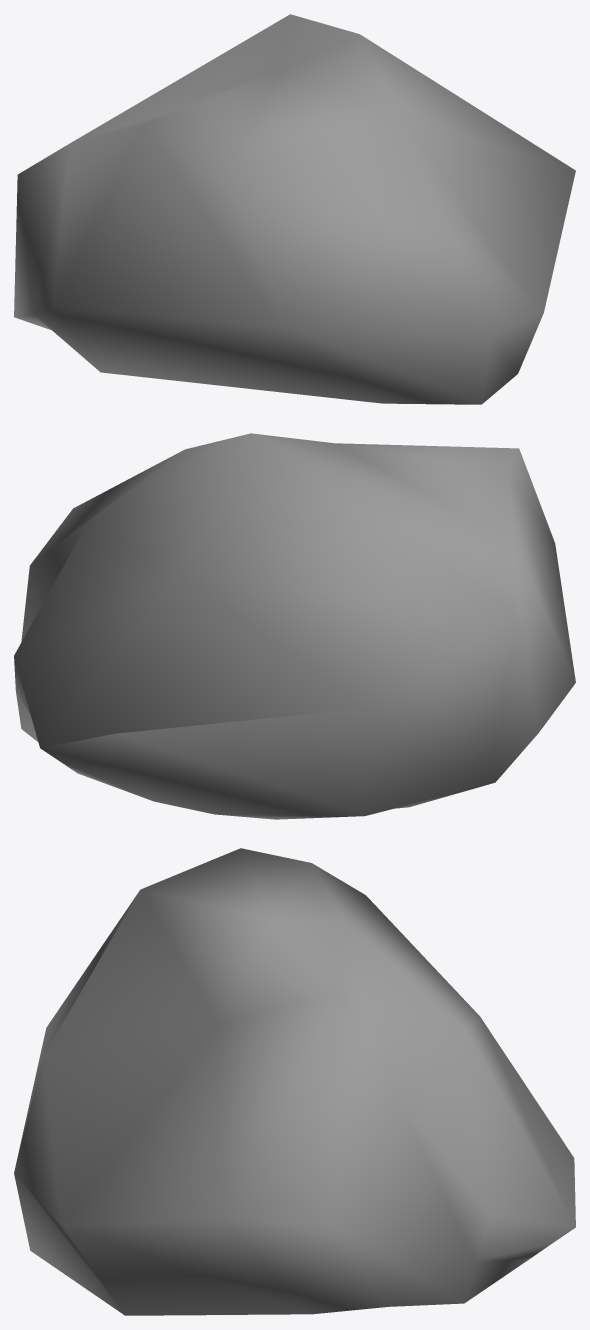
File: rock_3.fbx
3 renders of one model, top to bottom at view 1: azimuth 30°, elevation 25°; view 2: azimuth 150°, elevation 25°; view 3: azimuth 270°, elevation 25°, orthographic. The views are drawn at different scales.
Visible parts, largest first — view 1: rock_3; view 2: rock_3; view 3: rock_3.
Part boxes in pixels (x1,y1,x2,y2): rock_3: (14, 14, 575, 404); rock_3: (14, 433, 575, 819); rock_3: (14, 848, 575, 1315).
Bounding box in the file's own units: 210 × 126 × 193.
